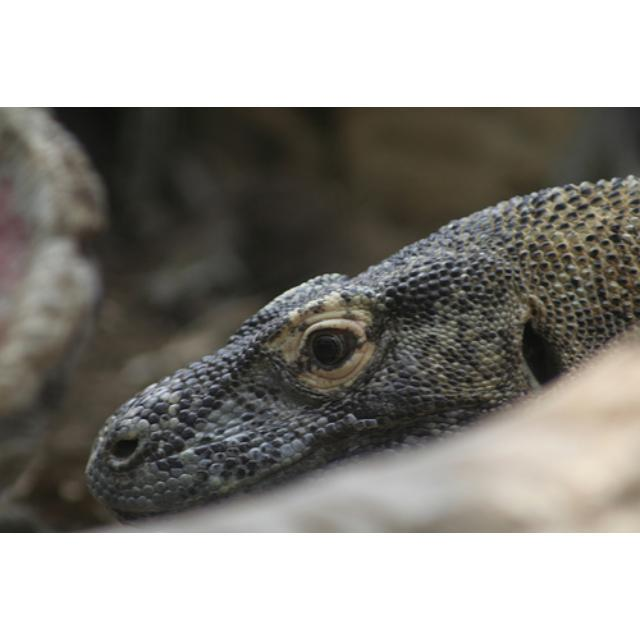KomodoDragon: (85, 170, 637, 524)
